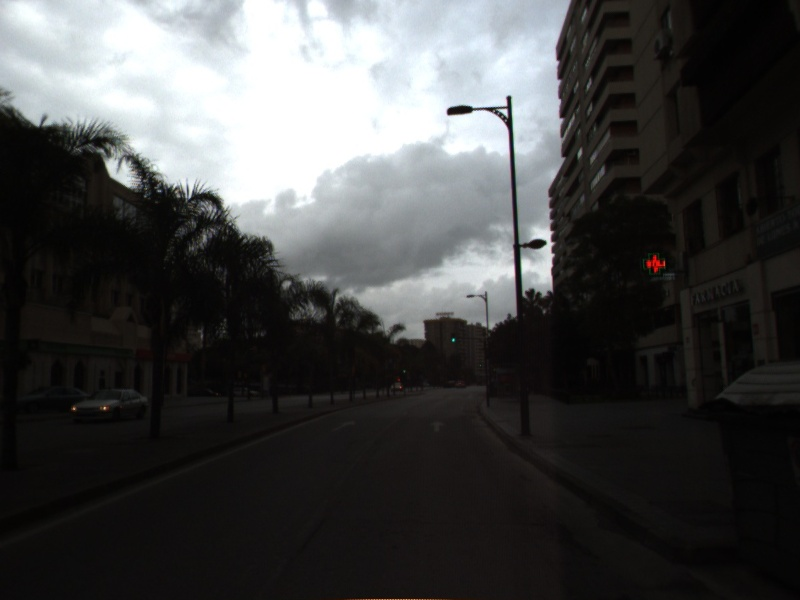STRAIGHT: (327, 418, 358, 434), (427, 418, 447, 434)
